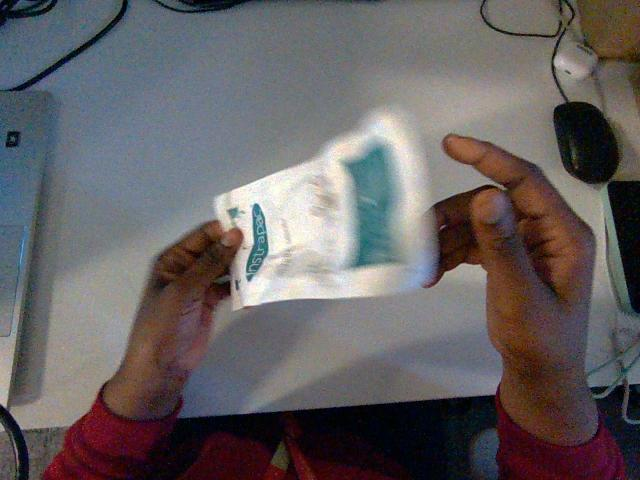gallipot: (214, 111, 437, 309)
